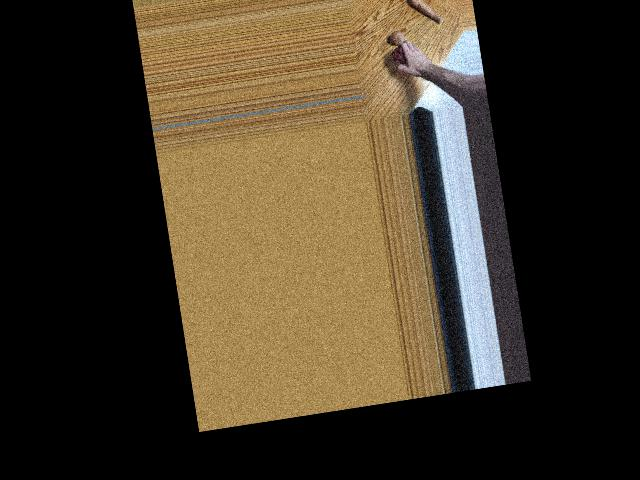onion: (387, 30, 405, 48)
